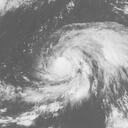cyclone: (37, 28, 95, 98)
